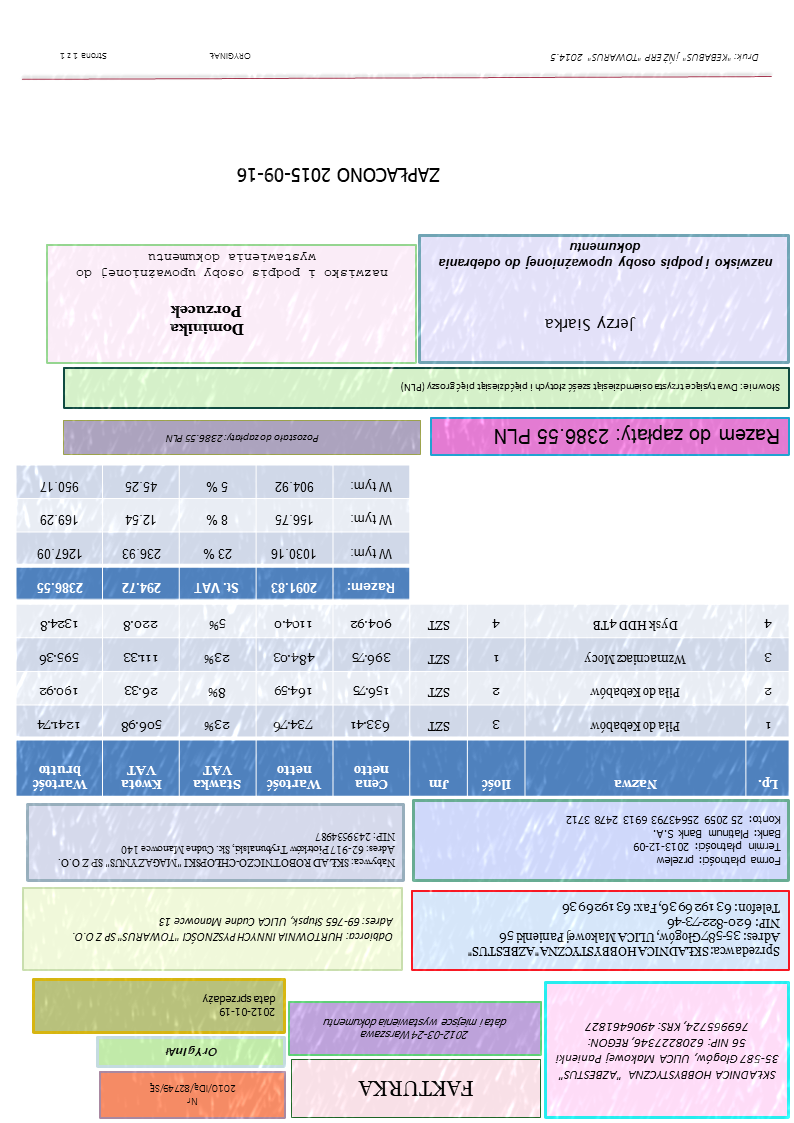Table: (14, 603, 791, 799), (15, 463, 412, 603)
TextBox: (463, 897, 784, 963), (552, 1018, 783, 1085), (56, 829, 399, 873), (562, 810, 784, 871), (435, 240, 775, 272), (72, 250, 392, 284), (70, 913, 396, 946), (397, 378, 783, 396), (493, 425, 782, 449), (320, 1014, 511, 1044), (232, 165, 443, 187), (546, 49, 761, 67), (165, 300, 248, 341), (56, 48, 255, 65), (358, 1077, 477, 1101), (147, 1080, 240, 1110), (163, 430, 322, 447), (541, 312, 641, 337), (201, 991, 278, 1022), (163, 1043, 221, 1063)
